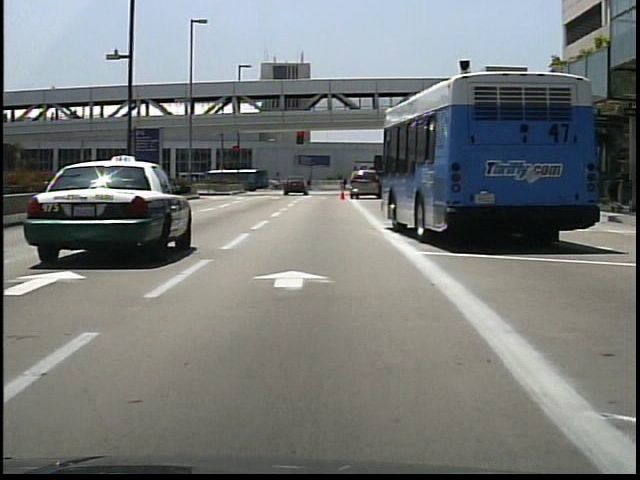person: (305, 178, 315, 193), (341, 176, 350, 192)
